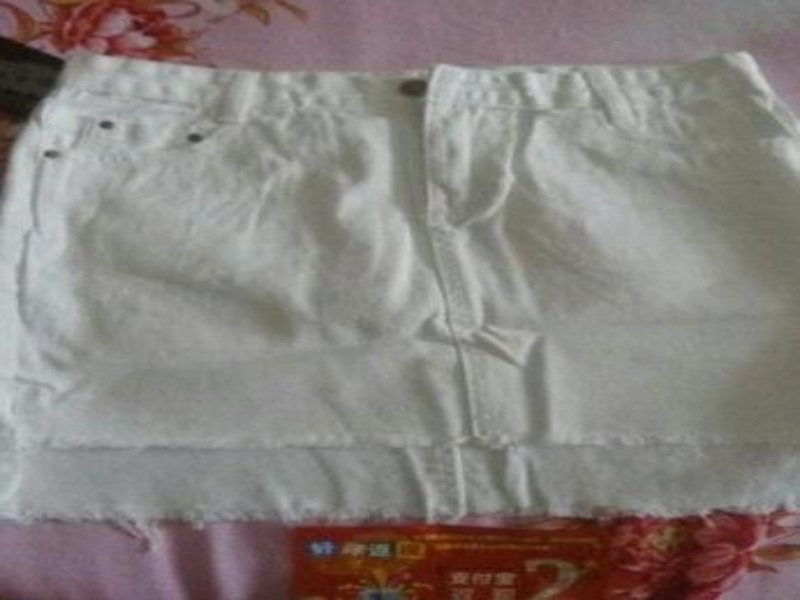skirt: (0, 47, 798, 527)
